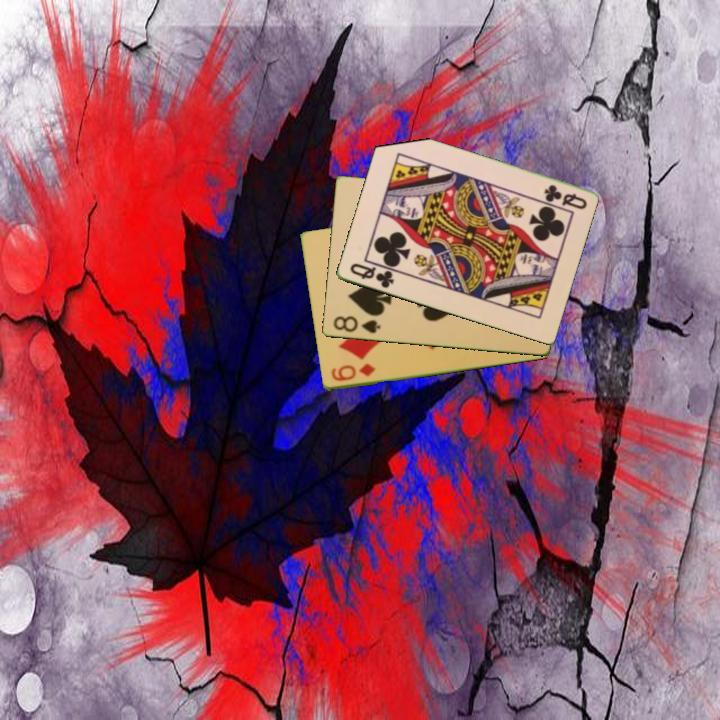6d: (327, 360, 378, 384)
8s: (330, 313, 383, 337)
Qc: (540, 181, 590, 213), (346, 260, 397, 291)
